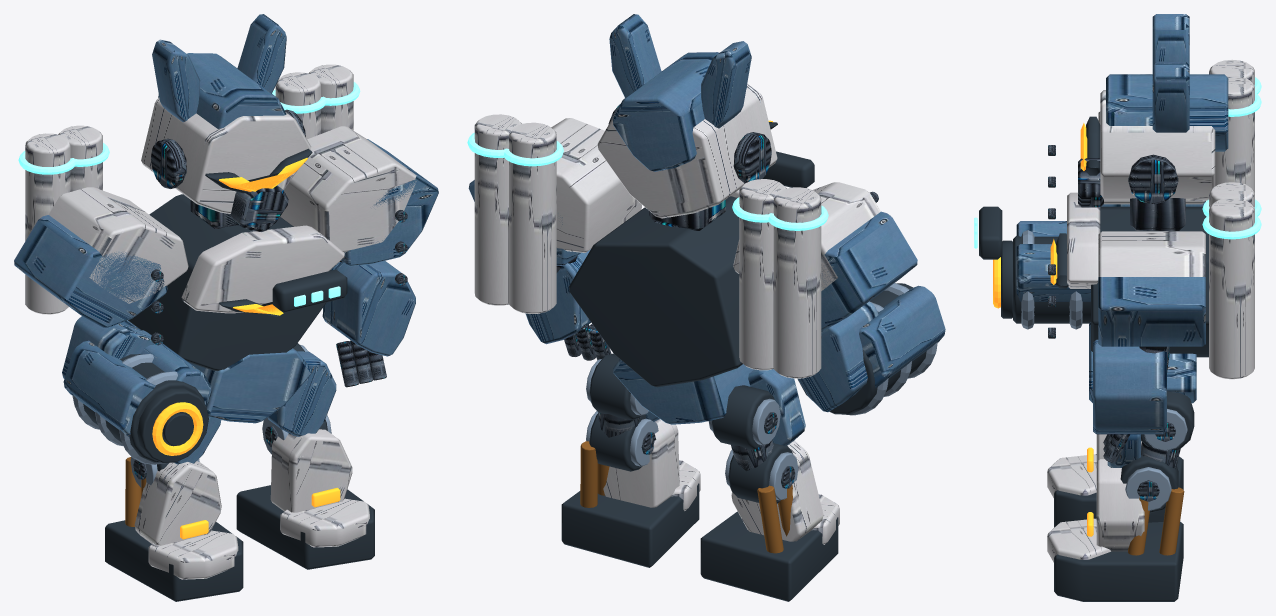
Rendered from sector_03_0.glb.
3 renders of one model, left to right at view 1: azimuth 30°, elevation 25°; view 2: azimuth 150°, elevation 25°; view 3: azimuth 270°, elevation 25°, orthographic. The views are drawn at different scales.
Parts seen in each view (by area): view 1: Cuirass yoke, Navy crown, Angular scout torso, Greave armor, Greave armor.001, Neck actuator, Servo housing.004, Servo housing.001, Tapered thigh shield.001, Recessed V optic, Coolant collar, Bearing ring (+2 smaller); view 2: Cuirass yoke, Navy crown, Angular scout torso, Servo housing.001, Servo housing.004, Greave armor.001, Neck actuator, Greave armor, Tapered thigh shield, Coolant collar, Bearing ring.002, Calf piston (+5 smaller); view 3: Navy crown, Cuirass yoke, Servo housing.004, Angular scout torso, Neck actuator, Greave armor.001, Greave armor, Bearing ring.008, Calf piston.002, Servo housing.001, Coolant collar, Hub.008 (+3 smaller).
Part boxes in pixels (<box>): Cuirass yoke: <box>25,64,416,314</box>; Navy crown: <box>14,14,438,437</box>; Angular scout torso: <box>72,148,347,462</box>; Greave armor: <box>134,461,238,579</box>; Greave armor.001: <box>270,429,369,547</box>; Neck actuator: <box>151,109,407,387</box>; Servo housing.004: <box>236,343,374,569</box>; Servo housing.001: <box>105,462,243,601</box>; Tapered thigh shield.001: <box>267,351,336,436</box>; Recessed V optic: <box>152,157,307,455</box>; Coolant collar: <box>18,82,360,306</box>; Bearing ring: <box>73,354,177,464</box>; Cuirass yoke: <box>474,84,880,378</box>; Navy crown: <box>468,14,945,424</box>; Angular scout torso: <box>569,122,926,414</box>; Servo housing.001: <box>700,385,838,601</box>; Servo housing.004: <box>561,353,699,567</box>; Greave armor.001: <box>603,419,700,510</box>; Neck actuator: <box>556,104,878,360</box>; Greave armor: <box>731,440,839,544</box>; Tapered thigh shield: <box>748,369,805,445</box>; Coolant collar: <box>467,132,828,230</box>; Bearing ring.002: <box>708,398,798,500</box>; Calf piston: <box>757,485,792,553</box>; Navy crown: <box>1016,14,1228,434</box>; Cuirass yoke: <box>1067,59,1254,379</box>; Servo housing.004: <box>1054,391,1194,601</box>; Angular scout torso: <box>979,116,1208,357</box>; Neck actuator: <box>1048,145,1185,462</box>; Greave armor.001: <box>1047,458,1144,562</box>; Greave armor: <box>1047,434,1141,497</box>; Bearing ring.008: <box>1125,409,1187,510</box>; Calf piston.002: <box>1128,487,1184,555</box>; Servo housing.001: <box>1054,456,1183,527</box>; Coolant collar: <box>974,77,1261,248</box>; Hub.008: <box>1137,422,1180,501</box>.
Size of the model in its own units: 1.17 by 1.52 by 0.7745.
8 materials, 3 textured.
